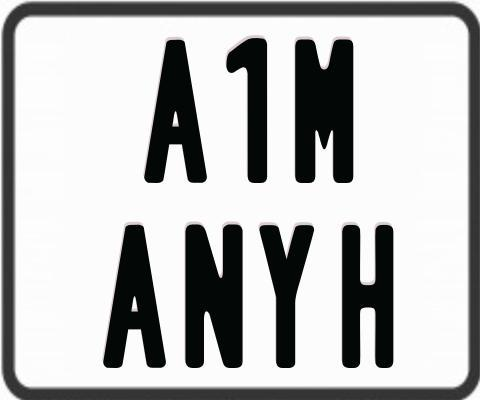1: (225, 36, 266, 186)
A: (100, 223, 168, 370), (143, 37, 208, 184)
H: (342, 223, 395, 366)
M: (293, 39, 352, 189)
N: (183, 221, 241, 370)
Y: (256, 223, 315, 371)
